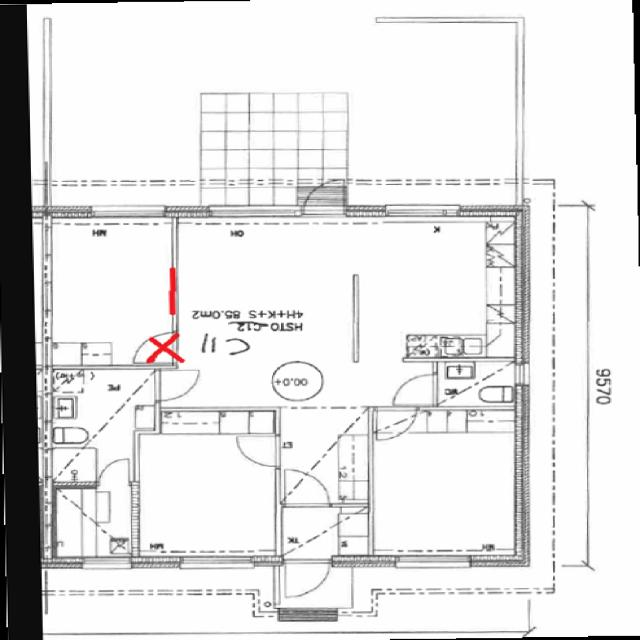door: (302, 174, 344, 216), (285, 559, 329, 598), (285, 469, 328, 506), (376, 406, 416, 441), (394, 374, 438, 404), (236, 437, 279, 466), (155, 371, 198, 400), (99, 459, 128, 485)
